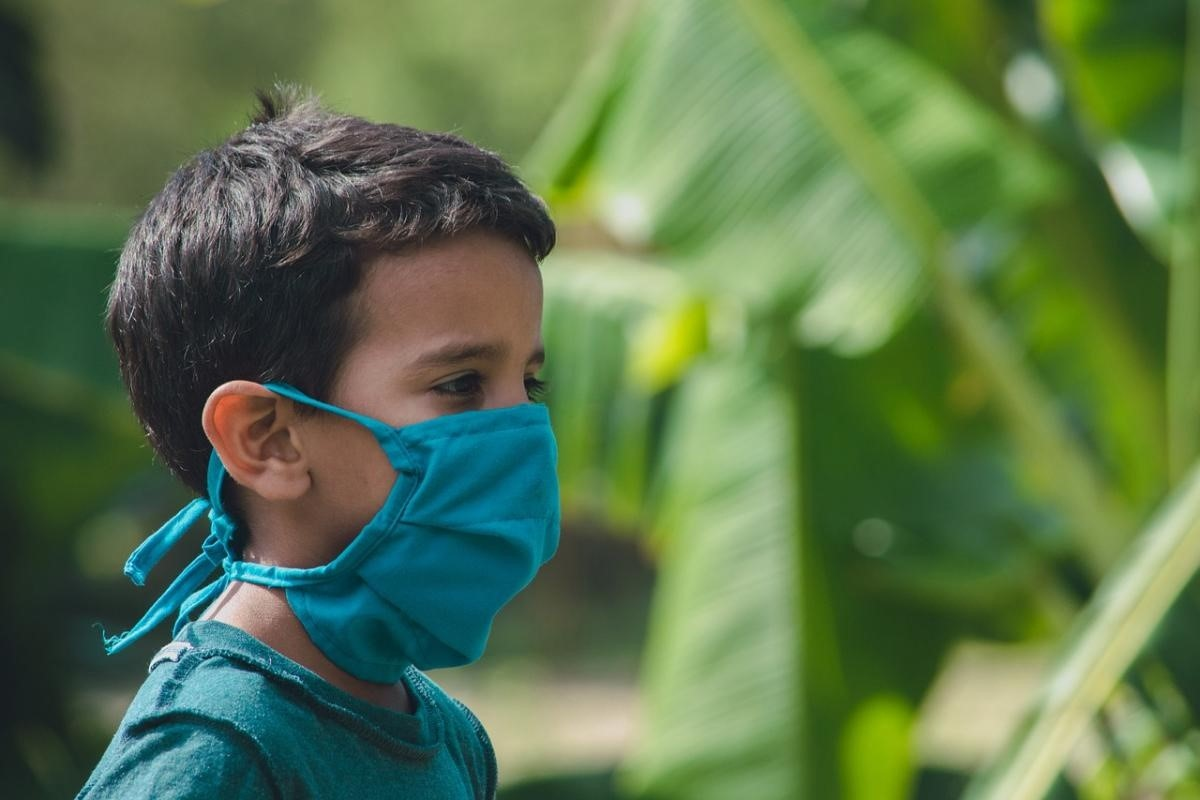face_with_mask: (103, 100, 571, 685)
